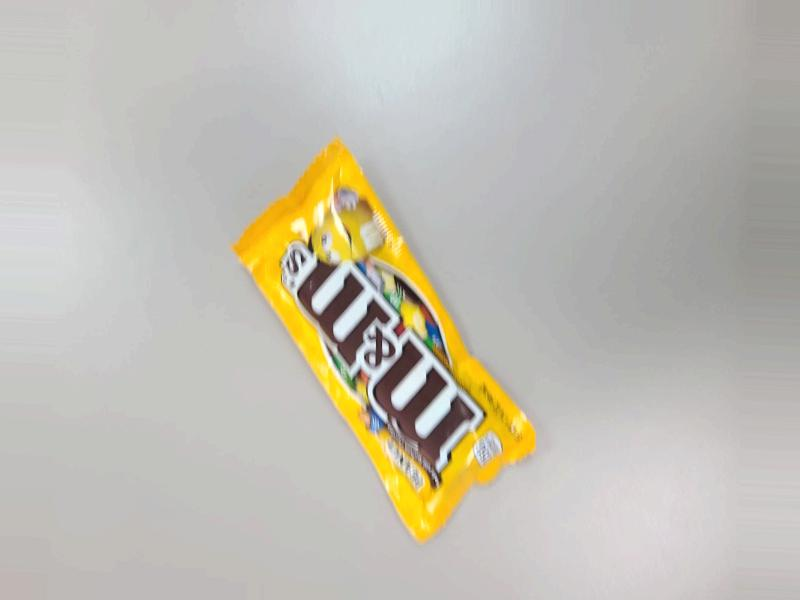m&m: (235, 139, 552, 537)
